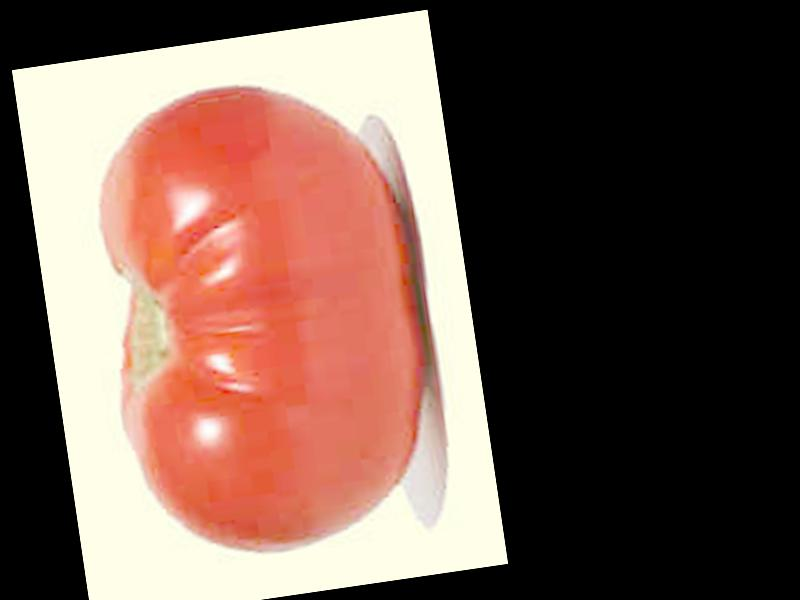Tomato: (76, 63, 446, 569)
